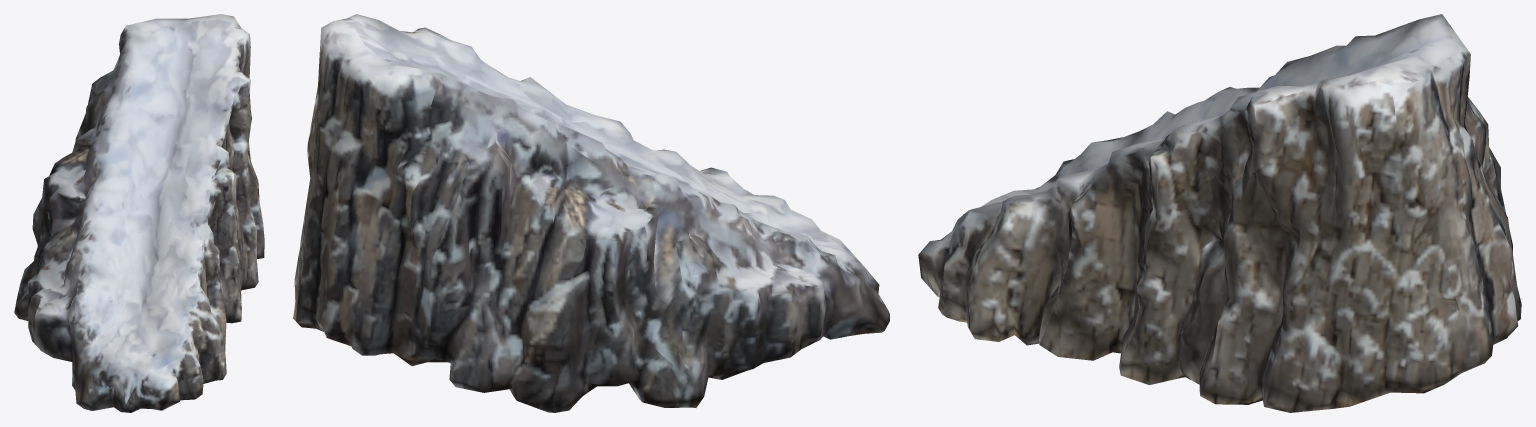
The model's file is ThirdRoom_RockRamp.fbx.
The picture shows the model from 3 angles, left to right: view 1: azimuth 30°, elevation 25°; view 2: azimuth 150°, elevation 25°; view 3: azimuth 270°, elevation 25°; orthographic projection. The views are drawn at different scales.
Visible parts, largest first — view 1: ThirdRoom_RockRamp_Mesh; view 2: ThirdRoom_RockRamp_Mesh; view 3: ThirdRoom_RockRamp_Mesh.
Boxes of the visible parts, x1,y1,x2,y2 form: ThirdRoom_RockRamp_Mesh: [14, 14, 264, 412]; ThirdRoom_RockRamp_Mesh: [293, 14, 889, 412]; ThirdRoom_RockRamp_Mesh: [918, 14, 1521, 412].
Size of the model in its own units: 5.13 by 4.18 by 6.
1 material, 1 textured.
